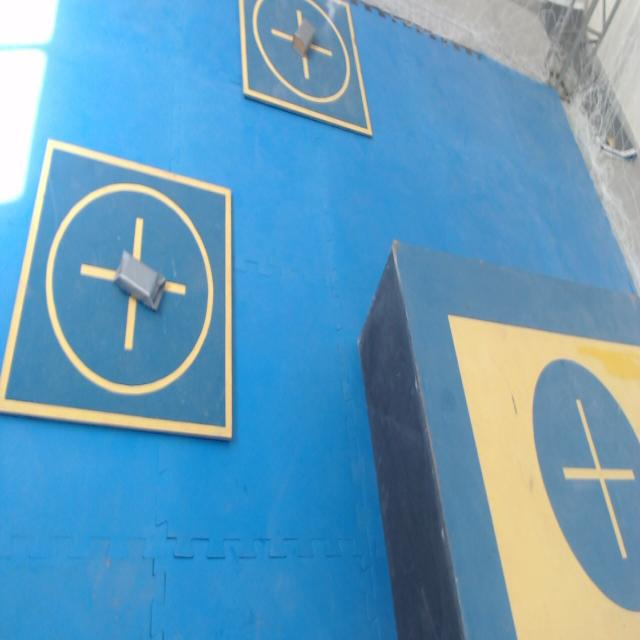direita: (293, 13, 314, 56)
esquerda: (116, 251, 166, 309)
